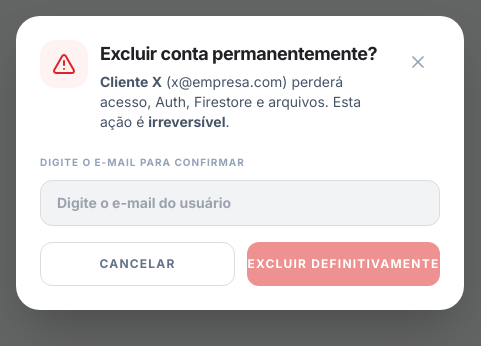
Test: TU-ADM-05/06 — DeleteUserModal › TU-ADM-05: exige digitar o e-mail para liberar a exclusão
The image size is (481, 346).
Check: the button "Excluir definitivamente" is disabled, box [247,242,440,286]
Type "x@empresa.com" into the field with placeholder "Digite o e-mail do usuário".
click(240, 203); type("x@empresa.com")  # box [40,180,440,226]
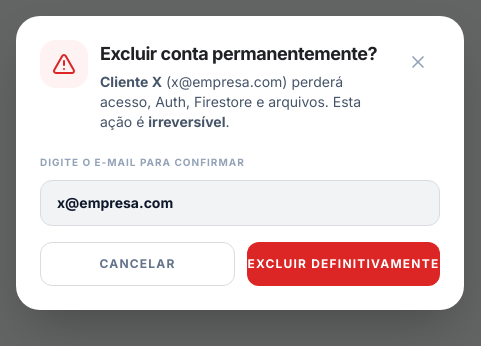
Check: the button "Excluir definitivamente" is enabled, box [247,242,440,286]
